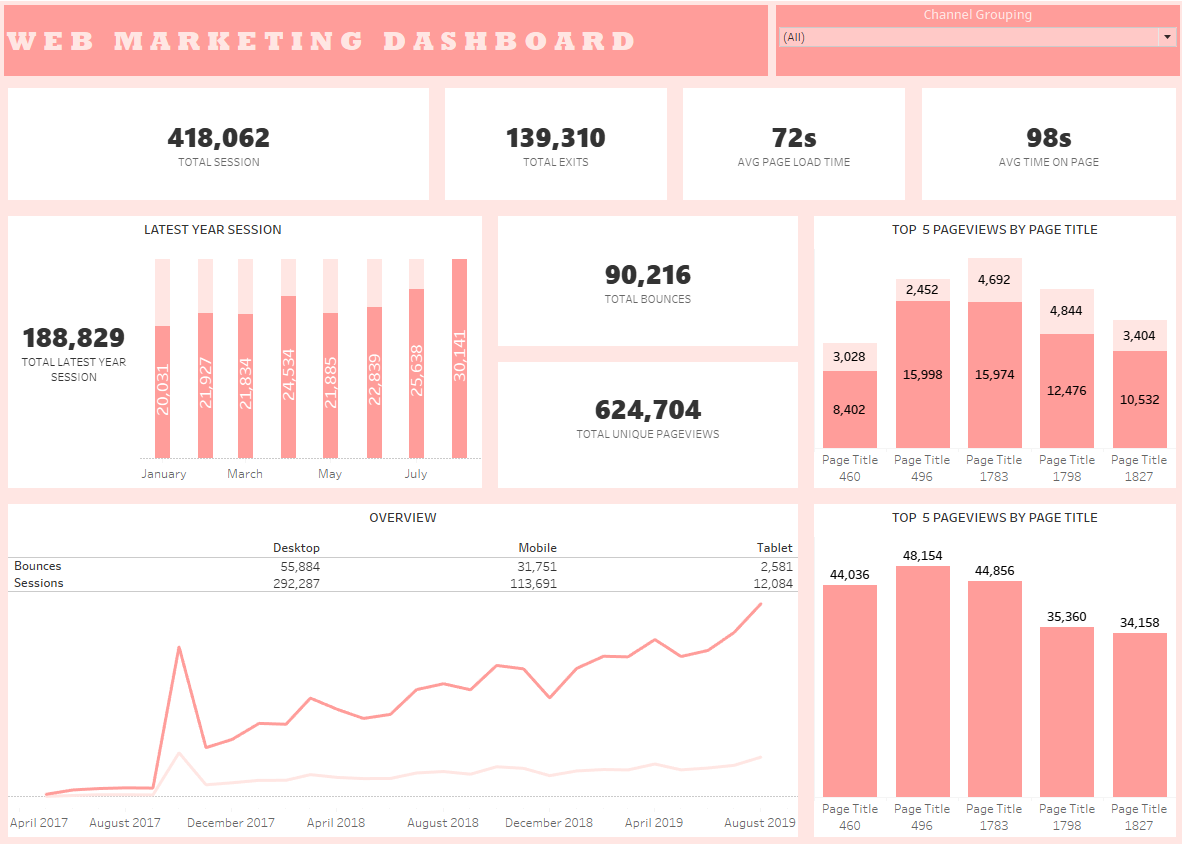

Layout of this report page (visuals, bound fields, positions):
{"tool":"tableau","page":{"name":"Dashboard 1","canvas":[1200,860],"ordinal":0},"visuals":[{"type":"text","box":[8,8,772,79.2]},{"type":"filter","title":"SESSION","param":"[federated.1lzup7g0jr8kor111olg70teoxor].[none:Channel Grouping:nk]","box":[780,8,412,79.2]},{"type":"worksheet","title":"SESSION","mark":"Automatic","box":[8,87.2,437.2,127.9]},{"type":"worksheet","title":"EXITS","mark":"Automatic","box":[445.2,87.2,238.2,127.9]},{"type":"worksheet","title":"LOAD TIME","mark":"Automatic","box":[683.5,87.2,238.2,127.9]},{"type":"worksheet","title":"TIME ON PAGE","mark":"Automatic","box":[921.7,87.2,270.3,127.9]},{"type":"worksheet","title":"bar kpi","mark":"Automatic","box":[8,215.2,140,287.8]},{"type":"worksheet","title":"BAR","mark":"Bar","rows":["Calculation_585749439460970500","Sessions"],"cols":["Date"],"box":[148,215.2,349.9,287.8]},{"type":"worksheet","title":"BOUNCES","mark":"Automatic","box":[497.9,215.2,316,146]},{"type":"worksheet","title":"TOP 5 PAGEVIEWS (2)","mark":"Automatic","rows":["Pageviews"],"cols":["Page Title"],"box":[814,215.2,378,287.8]},{"type":"worksheet","title":"UNIQUE PAGE VIEWS","mark":"Automatic","box":[497.9,361.2,316,141.8]},{"type":"worksheet","title":"LINE KPI","mark":"Automatic","cols":["Device Category"],"box":[8,503,806,96]},{"type":"worksheet","title":"TOP 5 PAGEVIEWS","mark":"Automatic","rows":["Pageviews"],"cols":["Page Title"],"box":[814,503,378,349]},{"type":"worksheet","title":"LINE","mark":"Line","rows":["Bounces","Sessions"],"cols":["Date"],"box":[8,599,806,253]}]}

Visuals, with their boxes in screenshot pixels (x1, y1, x2, y2), scaled from the page's 1200x860 canvas onto the 1182x844 screenshot:
text: (left=8, top=8, right=768, bottom=86)
"SESSION" filter: (left=768, top=8, right=1174, bottom=86)
"SESSION" worksheet: (left=8, top=86, right=439, bottom=211)
"EXITS" worksheet: (left=439, top=86, right=673, bottom=211)
"LOAD TIME" worksheet: (left=673, top=86, right=908, bottom=211)
"TIME ON PAGE" worksheet: (left=908, top=86, right=1174, bottom=211)
"bar kpi" worksheet: (left=8, top=211, right=146, bottom=494)
"BAR" worksheet (Bar marks): (left=146, top=211, right=490, bottom=494)
"BOUNCES" worksheet: (left=490, top=211, right=802, bottom=354)
"TOP 5 PAGEVIEWS (2)" worksheet: (left=802, top=211, right=1174, bottom=494)
"UNIQUE PAGE VIEWS" worksheet: (left=490, top=354, right=802, bottom=494)
"LINE KPI" worksheet: (left=8, top=494, right=802, bottom=588)
"TOP 5 PAGEVIEWS" worksheet: (left=802, top=494, right=1174, bottom=836)
"LINE" worksheet (Line marks): (left=8, top=588, right=802, bottom=836)
